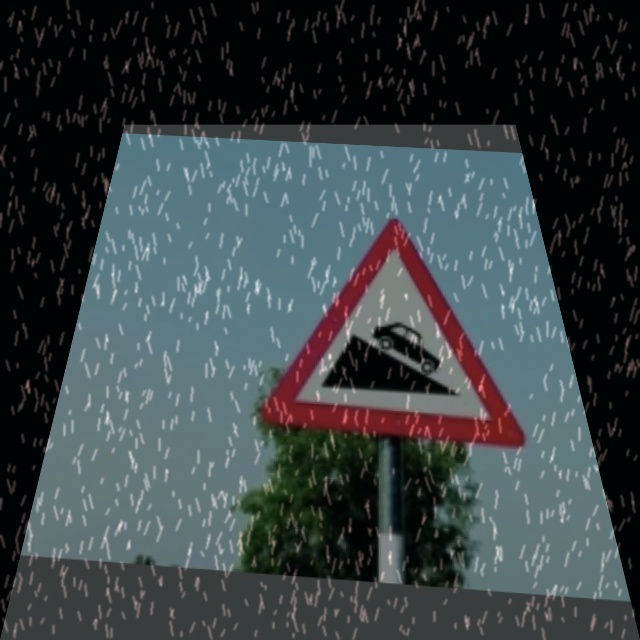Steep_Descent: (253, 210, 552, 452)
